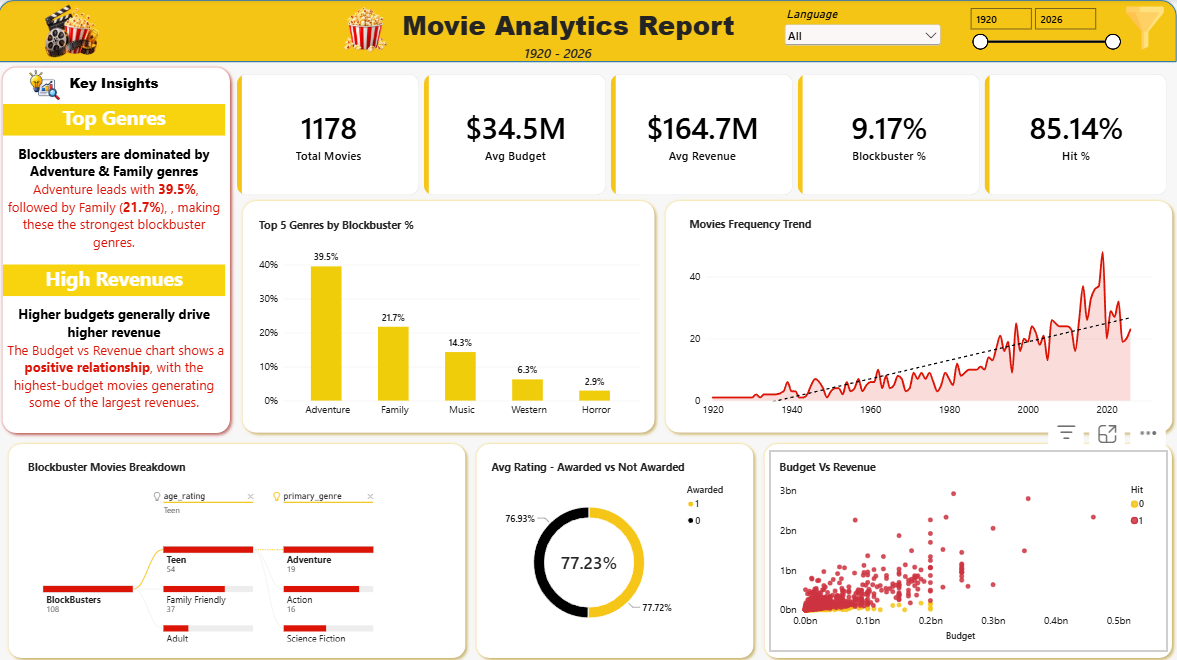

What the dashboard file says about the page in this screenshot:
{"tool":"powerbi","page":{"name":"DashBoard","canvas":[1920,1080],"ordinal":0},"visuals":[{"type":"shape","box":[0,0,1920.7,104.4],"z":0},{"type":"textbox","box":[639.2,12.2,580.7,70.8],"z":1000},{"type":"textbox","box":[739.3,73.2,346.5,48.8],"z":2000},{"type":"slicer","fields":{"Values":["movies_data.original_language"]},"box":[1277.1,12.4,263.4,79.5],"z":3000},{"type":"slicer","fields":{"Values":["movies_data.year"]},"box":[1576.7,9.1,255.2,85.1],"z":4000},{"type":"image","box":[1831.9,12.2,69.9,69.9],"z":5000},{"type":"shape","box":[0,102.5,387.9,612.4],"z":6000},{"type":"shape","box":[390.4,319.6,688.3,395.1],"z":7000},{"type":"shape","box":[1077.5,320,842.5,395],"z":8000},{"type":"shape","box":[9.8,714.9,761.2,366],"z":9000},{"type":"shape","box":[771,714.9,468.4,366],"z":10000},{"type":"shape","box":[1239.4,714.9,680.7,366],"z":11000},{"type":"cardVisual","fields":{"Data":["base measures.Total Movies","base measures.Avg Budget","base measures.Avg Revenue","base measures.Blockbuster %","base measures.Hit %"]},"box":[390.4,122,1512.7,197.6],"z":12000},{"type":"image","box":[558.7,7.3,80.5,85.4],"z":13000},{"type":"image","box":[9.8,2.4,222,102.5],"z":14000},{"type":"lineChart","title":"Movies Frequency Trend","fields":{"Category":["movies_data.year"],"Y":["base measures.Total Movies"]},"box":[1110.1,339.1,792.9,361.1],"z":15000},{"type":"columnChart","title":"Top 5 Genres by Blockbuster %","fields":{"Category":["movies_data.primary_genre"],"Y":["base measures.Blockbuster %"]},"box":[409.9,341.6,651.4,358.7],"z":16000},{"type":"donutChart","title":"Avg Rating - Awarded vs Not Awarded","fields":{"Category":["movies_data.awarded"],"Y":["base measures.Avg Rating"]},"box":[788.1,734.4,431.8,326.9],"z":17000},{"type":"scatterChart","title":"Budget Vs Revenue","fields":{"Series":["movies_data.IsHit"],"X":["movies_data.budget"],"Y":["movies_data.revenue"]},"box":[1256.5,734.4,646.6,326.9],"z":18000},{"type":"decompositionTreeVisual","title":"Blockbuster Movies Breakdown","fields":{"Analyze":["Sum(movies_data.IsBlockBuster)"],"ExplainBy":["movies_data.age_rating","movies_data.primary_genre"]},"box":[34.2,734.4,705.1,326.9],"z":19000},{"type":"textbox","box":[9.8,122,361.1,48.8],"z":20000},{"type":"image","box":[34.2,109.8,87.8,61],"z":21000},{"type":"textbox","box":[9.8,236,361.1,190.3],"z":22000},{"type":"textbox","box":[9.8,497.7,361.1,202.5],"z":23000},{"type":"textbox","box":[9.8,431.8,361.1,51],"z":24000},{"type":"textbox","box":[9.8,170.8,361.1,51.2],"z":25000}]}

Visuals, with their boxes in screenshot pixels (x1, y1, x2, y2), scaled from the page's 1920x1080 canvas onto the 1177x660 screenshot:
shape: {"x1": 0, "y1": 0, "x2": 1176, "y2": 64}
textbox: {"x1": 392, "y1": 7, "x2": 748, "y2": 51}
textbox: {"x1": 453, "y1": 45, "x2": 666, "y2": 75}
slicer - movies_data.original_language: {"x1": 783, "y1": 8, "x2": 944, "y2": 56}
slicer - movies_data.year: {"x1": 967, "y1": 6, "x2": 1123, "y2": 58}
image: {"x1": 1123, "y1": 7, "x2": 1166, "y2": 50}
shape: {"x1": 0, "y1": 63, "x2": 238, "y2": 437}
shape: {"x1": 239, "y1": 195, "x2": 661, "y2": 437}
shape: {"x1": 661, "y1": 196, "x2": 1176, "y2": 437}
shape: {"x1": 6, "y1": 437, "x2": 473, "y2": 659}
shape: {"x1": 473, "y1": 437, "x2": 760, "y2": 659}
shape: {"x1": 760, "y1": 437, "x2": 1176, "y2": 659}
cardVisual - base measures.Total Movies x base measures.Avg Budget: {"x1": 239, "y1": 75, "x2": 1167, "y2": 195}
image: {"x1": 342, "y1": 4, "x2": 392, "y2": 57}
image: {"x1": 6, "y1": 1, "x2": 142, "y2": 64}
"Movies Frequency Trend" lineChart: {"x1": 681, "y1": 207, "x2": 1167, "y2": 428}
"Top 5 Genres by Blockbuster %" columnChart: {"x1": 251, "y1": 209, "x2": 651, "y2": 428}
"Avg Rating - Awarded vs Not Awarded" donutChart: {"x1": 483, "y1": 449, "x2": 748, "y2": 649}
"Budget Vs Revenue" scatterChart: {"x1": 770, "y1": 449, "x2": 1167, "y2": 649}
"Blockbuster Movies Breakdown" decompositionTreeVisual: {"x1": 21, "y1": 449, "x2": 453, "y2": 649}
textbox: {"x1": 6, "y1": 75, "x2": 227, "y2": 104}
image: {"x1": 21, "y1": 67, "x2": 75, "y2": 104}
textbox: {"x1": 6, "y1": 144, "x2": 227, "y2": 261}
textbox: {"x1": 6, "y1": 304, "x2": 227, "y2": 428}
textbox: {"x1": 6, "y1": 264, "x2": 227, "y2": 295}
textbox: {"x1": 6, "y1": 104, "x2": 227, "y2": 136}
